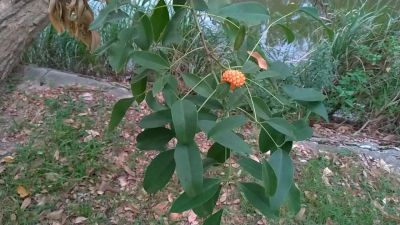eggs: (219, 64, 247, 89)
